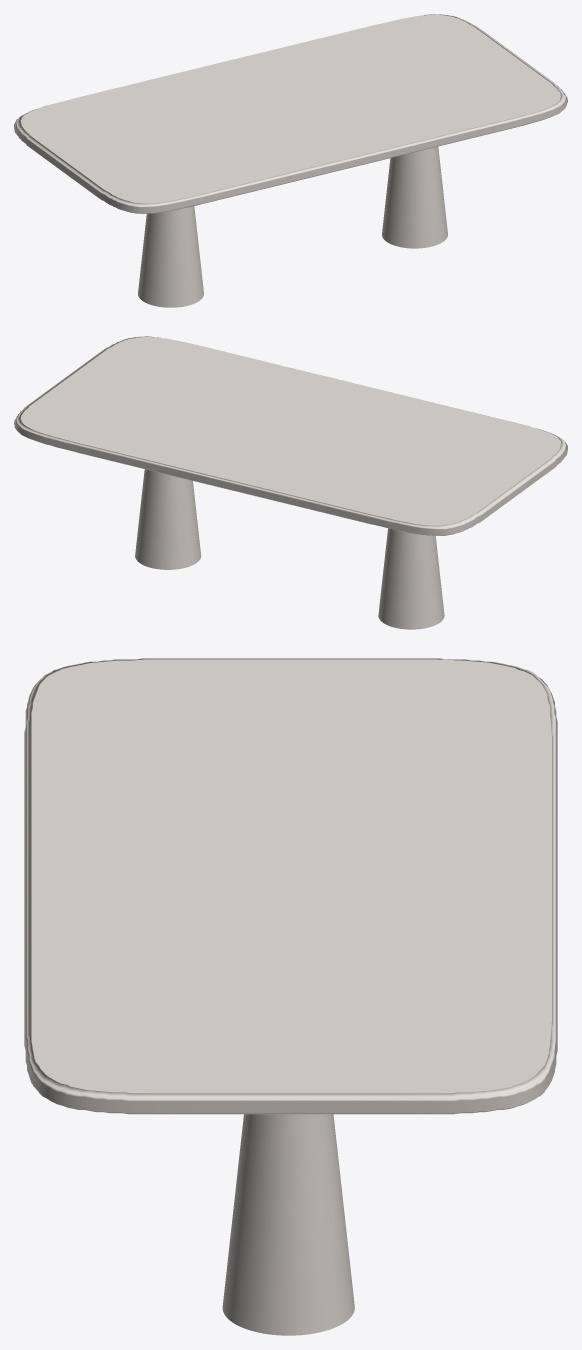
Rendered from pearlwhite_softrecta_round_pebble.glb.
3 views of the same model, one above another, from view 1: azimuth 30°, elevation 25°; view 2: azimuth 150°, elevation 25°; view 3: azimuth 270°, elevation 25° (orthographic). The views are drawn at different scales.
Parts seen in each view (by area): view 1: round_softrecta, pebble; view 2: round_softrecta, pebble; view 3: round_softrecta, pebble.
Part boxes in pixels (left/top/right/bottom): round_softrecta: left=14, top=14, right=567, bottom=213; pebble: left=138, top=146, right=447, bottom=307; round_softrecta: left=14, top=336, right=567, bottom=535; pebble: left=135, top=469, right=444, bottom=629; round_softrecta: left=24, top=658, right=557, bottom=1114; pebble: left=222, top=1114, right=354, bottom=1335.
Bounding box in the file's own units: 7.68 × 2.5 × 3.9.
Materials: 1 (1 with a texture image).
